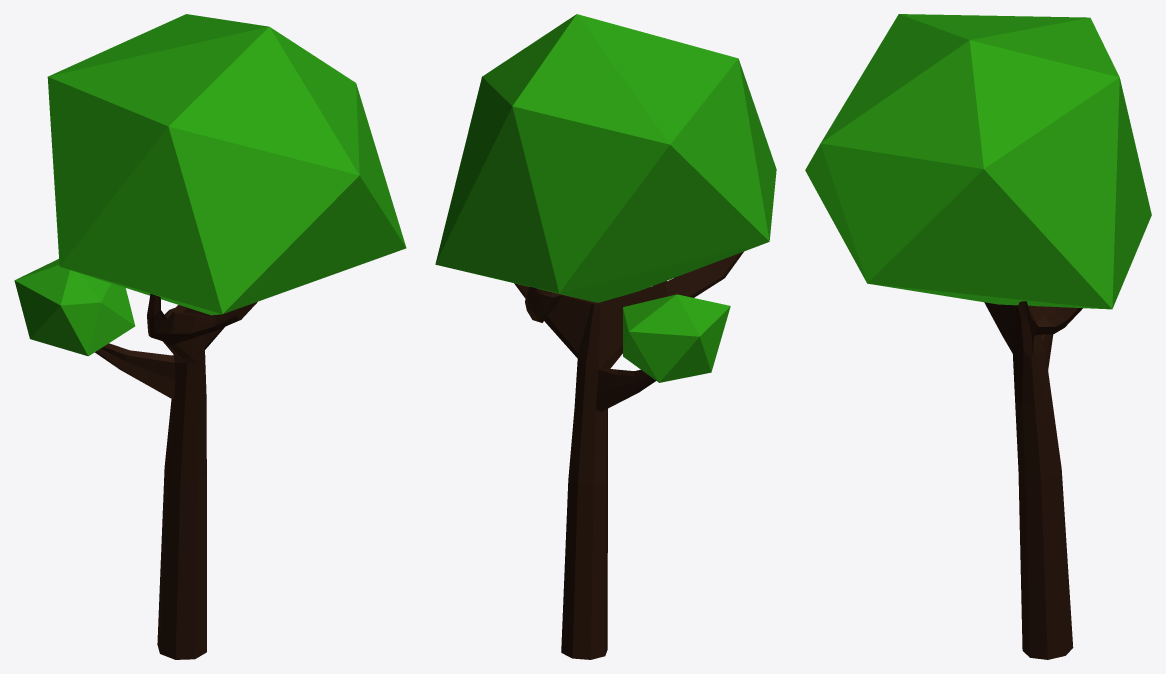
The model's file is Tree2.obj.
3 renders of one model, left to right at view 1: azimuth 30°, elevation 25°; view 2: azimuth 150°, elevation 25°; view 3: azimuth 270°, elevation 25°, orthographic. The views are drawn at different scales.
Visible parts, largest first — view 1: Tree_Variant_2.001_Cylinder.005; view 2: Tree_Variant_2.001_Cylinder.005; view 3: Tree_Variant_2.001_Cylinder.005.
Boxes of the visible parts, x1,y1,x2,y2 form: Tree_Variant_2.001_Cylinder.005: (14, 14, 406, 659); Tree_Variant_2.001_Cylinder.005: (435, 14, 776, 659); Tree_Variant_2.001_Cylinder.005: (805, 14, 1151, 659).
Size of the model in its own units: 1.07 by 2.17 by 1.07.
